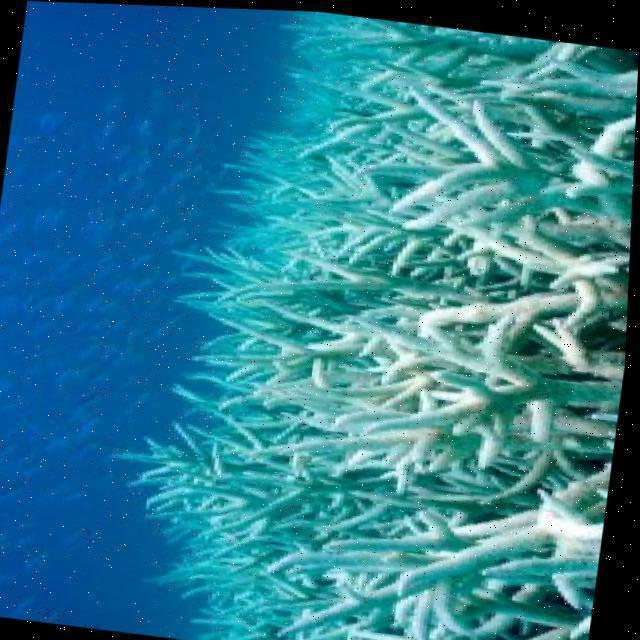Bleached Coral: (116, 15, 635, 640)
